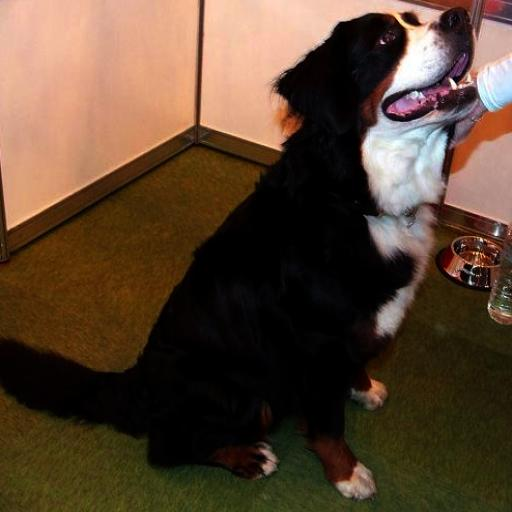dog_face: (274, 8, 477, 137)
